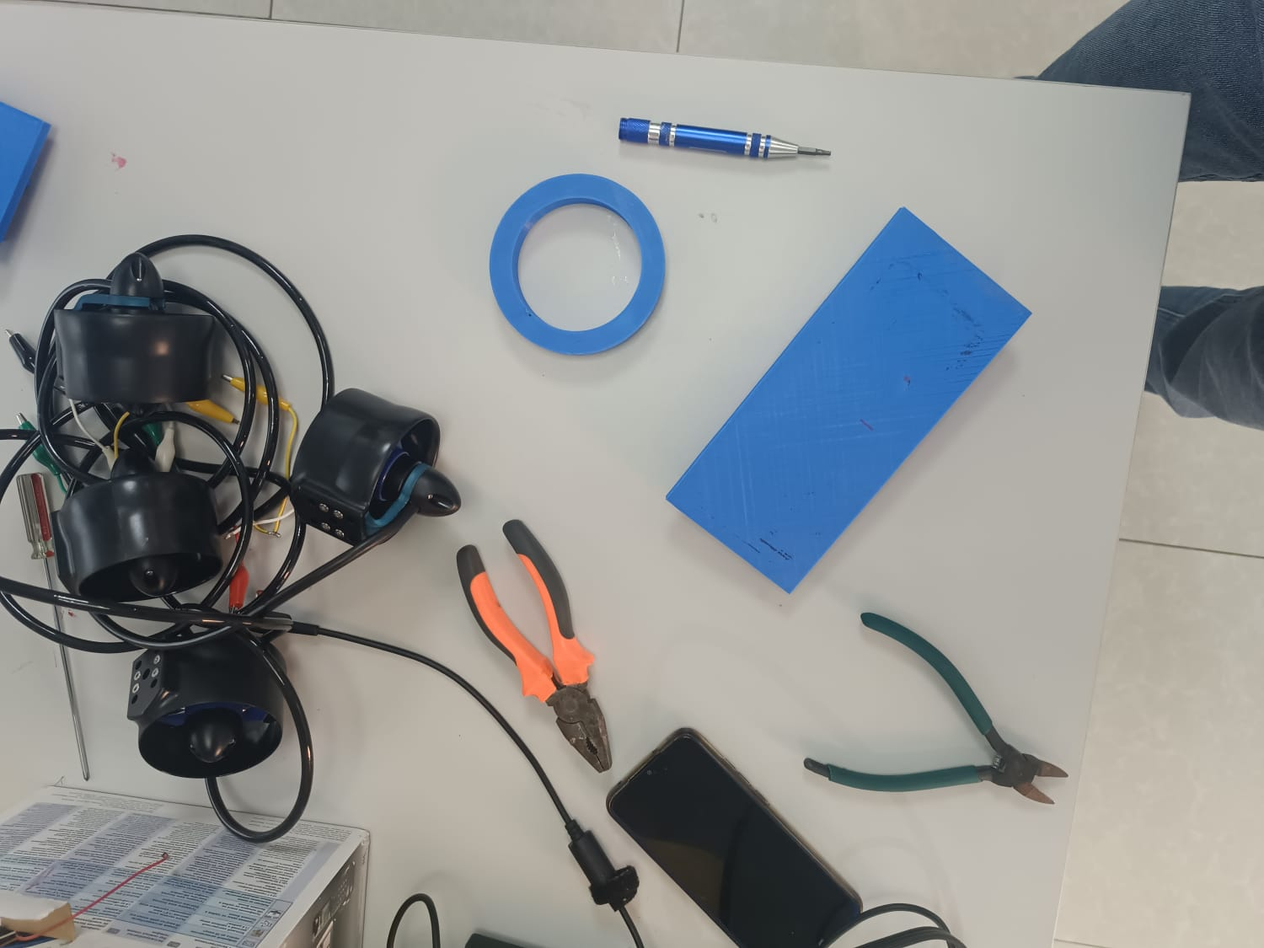Circle: (483, 168, 663, 363)
Rectangular: (663, 203, 1038, 596)
